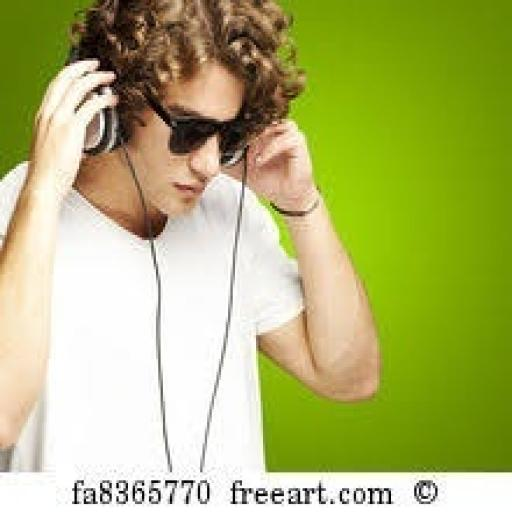listening_to_music: (0, 0, 384, 478)
